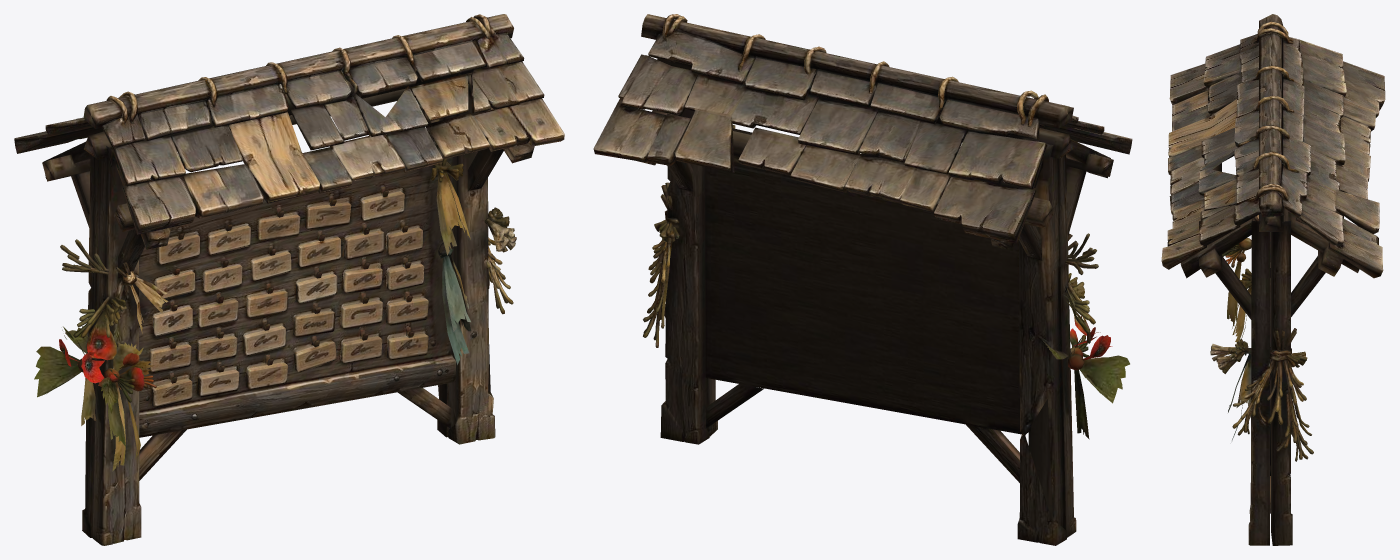
File: act1-a15-3-name-board.glb
3 views of the same model, side by side, from view 1: azimuth 30°, elevation 25°; view 2: azimuth 150°, elevation 25°; view 3: azimuth 270°, elevation 25° (orthographic). The views are drawn at different scales.
Parts seen in each view (by area): view 1: act1-a15-3-name-board; view 2: act1-a15-3-name-board; view 3: act1-a15-3-name-board.
Boxes of the visible parts, x1,y1,x2,y2 form: act1-a15-3-name-board: (14,14,564,545); act1-a15-3-name-board: (593,14,1132,545); act1-a15-3-name-board: (1161,14,1385,545).
Bounding box in the file's own units: 2.6 × 2.31 × 1.24.
Materials: 1 (1 with a texture image).
